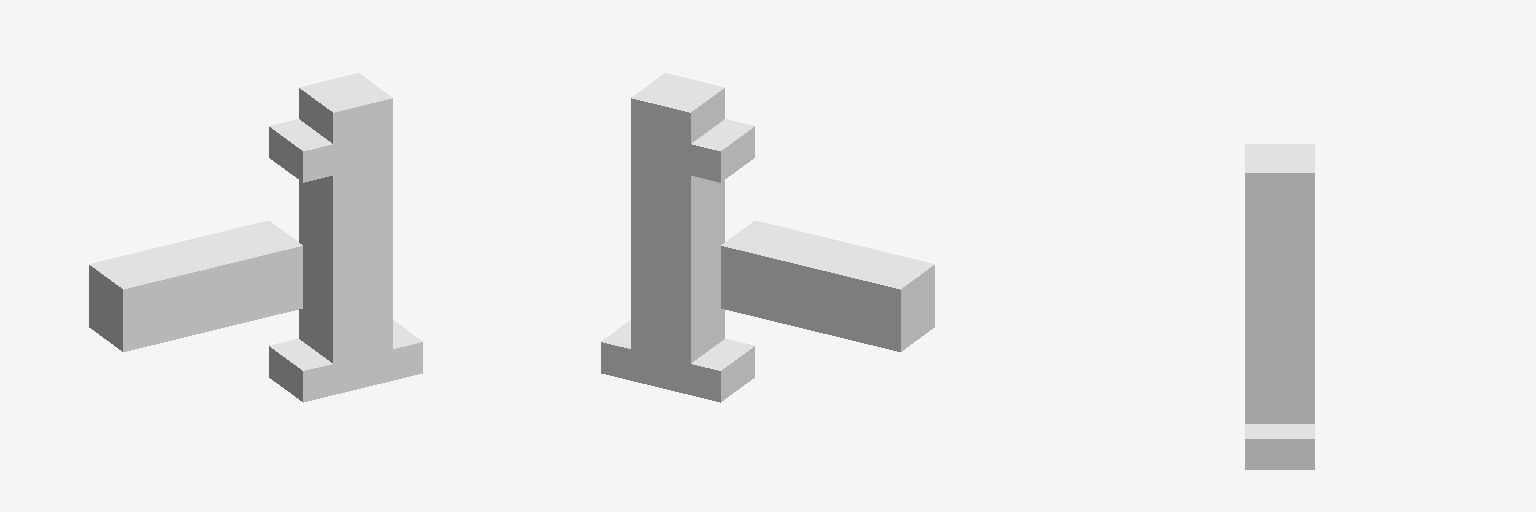
File: minusone.obj
3 views of the same model, side by side, from view 1: azimuth 30°, elevation 25°; view 2: azimuth 150°, elevation 25°; view 3: azimuth 270°, elevation 25° (orthographic).
Visible parts, largest first — view 1: minusone; view 2: minusone; view 3: minusone.
Part boxes in pixels (x1,y1,x2,y2): minusone: (89, 73, 422, 402); minusone: (601, 73, 934, 402); minusone: (1245, 144, 1314, 469).
Size of the model in its own units: 10 by 9 by 2.